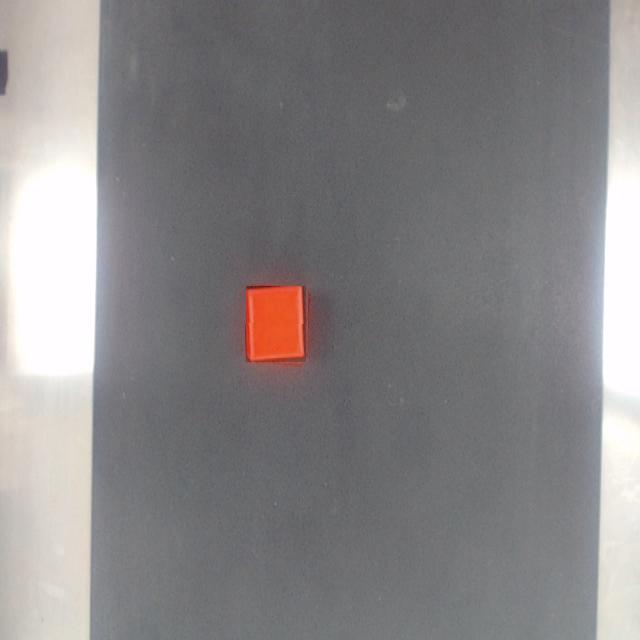Rojo: (247, 287, 306, 362)
